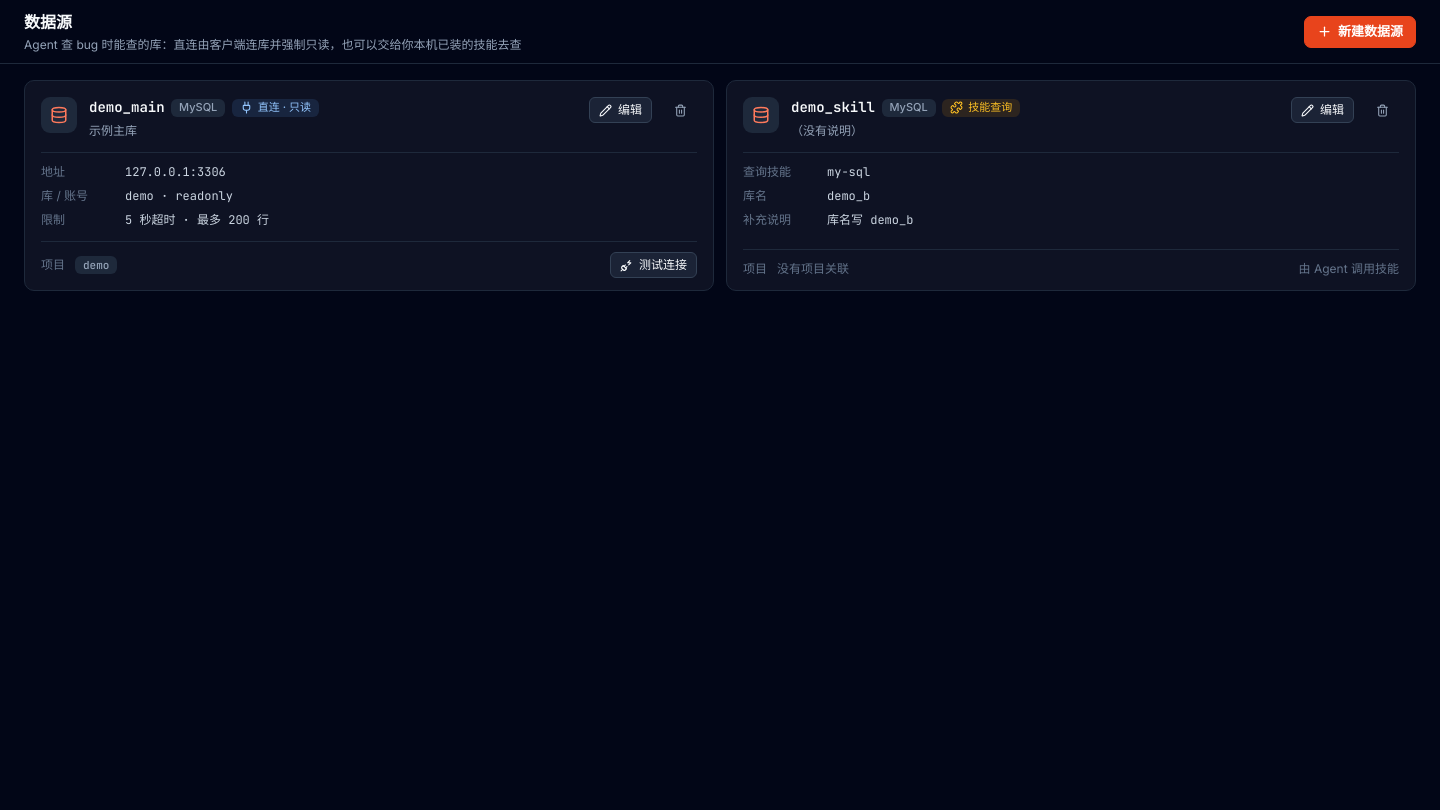
数据源页 › 类型选「其他」时只能用技能方式
The width and height of the screenshot is (1440, 810).
Expected: the element with test id "ds-demo_main" is shown, left=24, top=80, right=714, bottom=291
Step 1. Click the button "新建数据源" → (1360, 32), box left=1304, top=16, right=1416, bottom=48
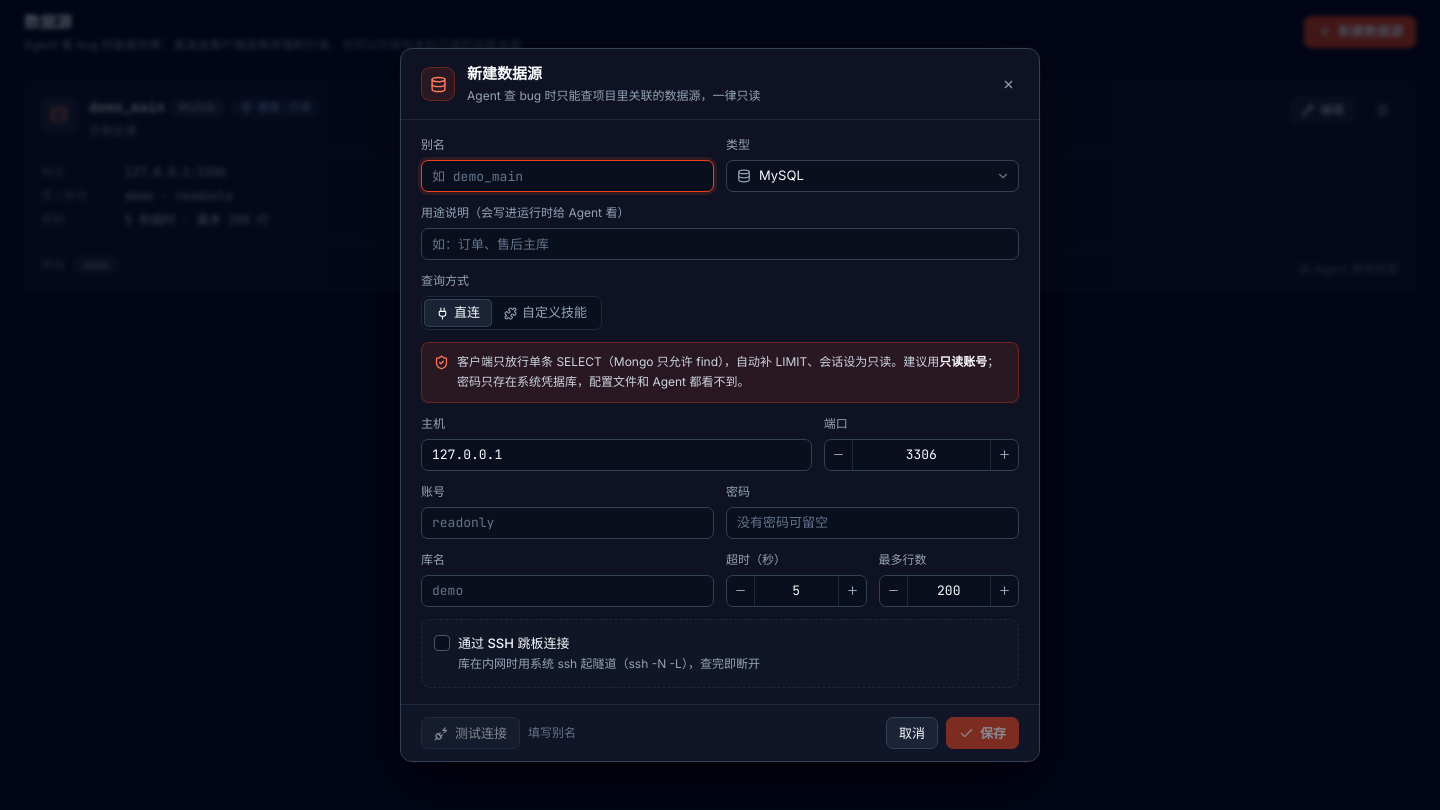
Step 2. Click the dropdown named "类型" → (781, 175), box left=726, top=160, right=1019, bottom=192
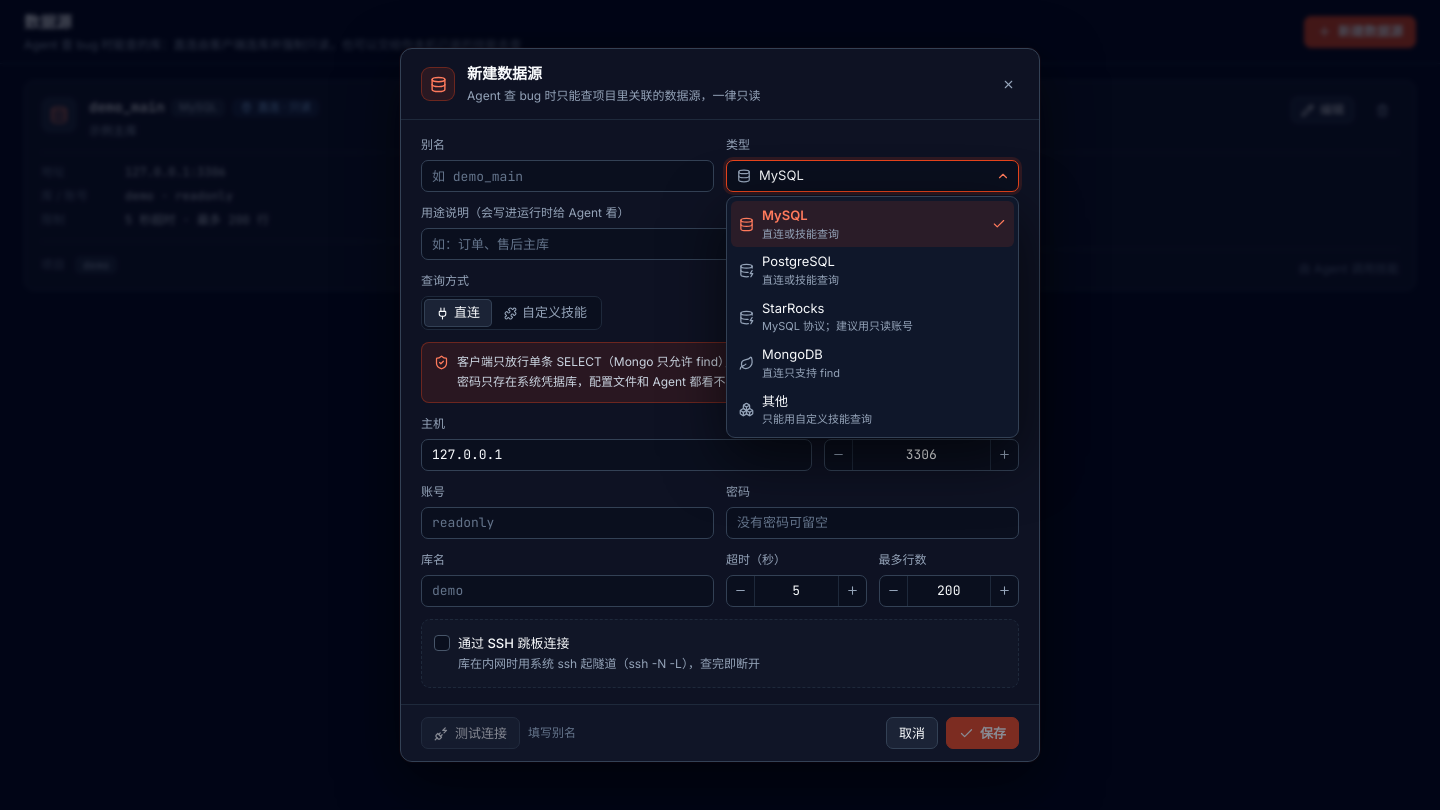
Step 3. Click the option "其他 只能用自定义技能查询" → (806, 410), box left=739, top=393, right=872, bottom=426
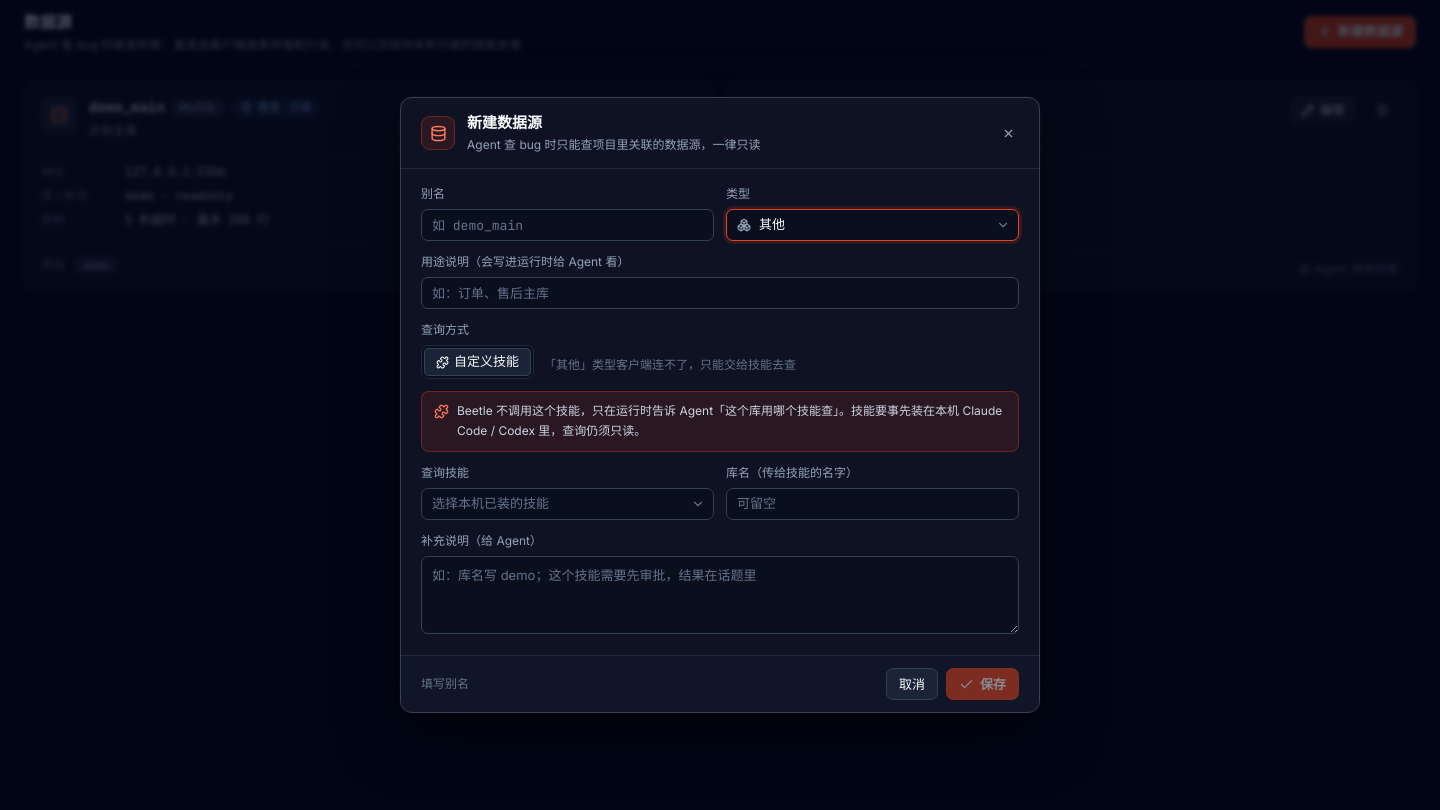
Result: the radio button reads "自定义技能" at left=424, top=348, right=531, bottom=376
Result: the number of radio buttons is 1 at left=424, top=348, right=531, bottom=376
Result: the label labelled "主机" is gone
